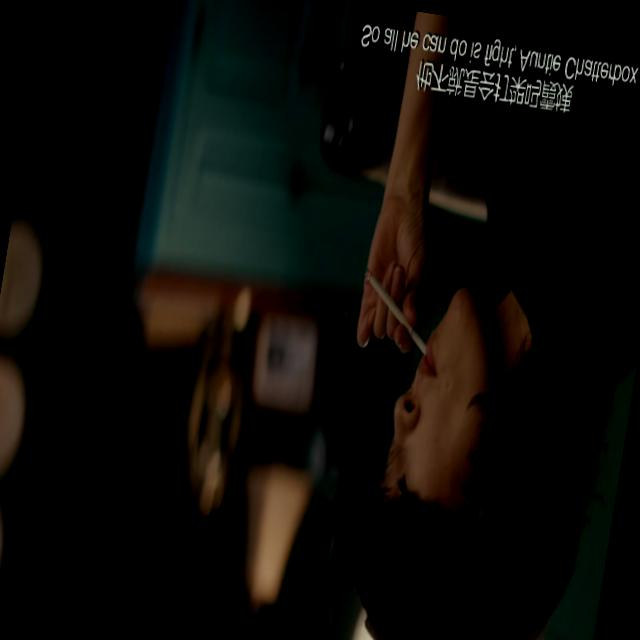cigarette: (346, 264, 440, 354)
